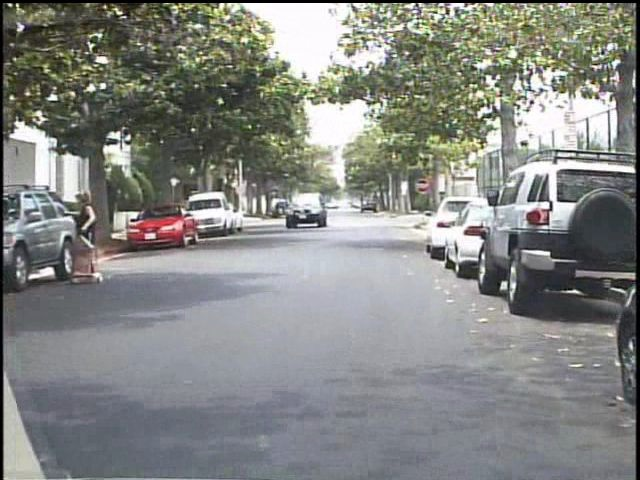person: (76, 185, 114, 285)
